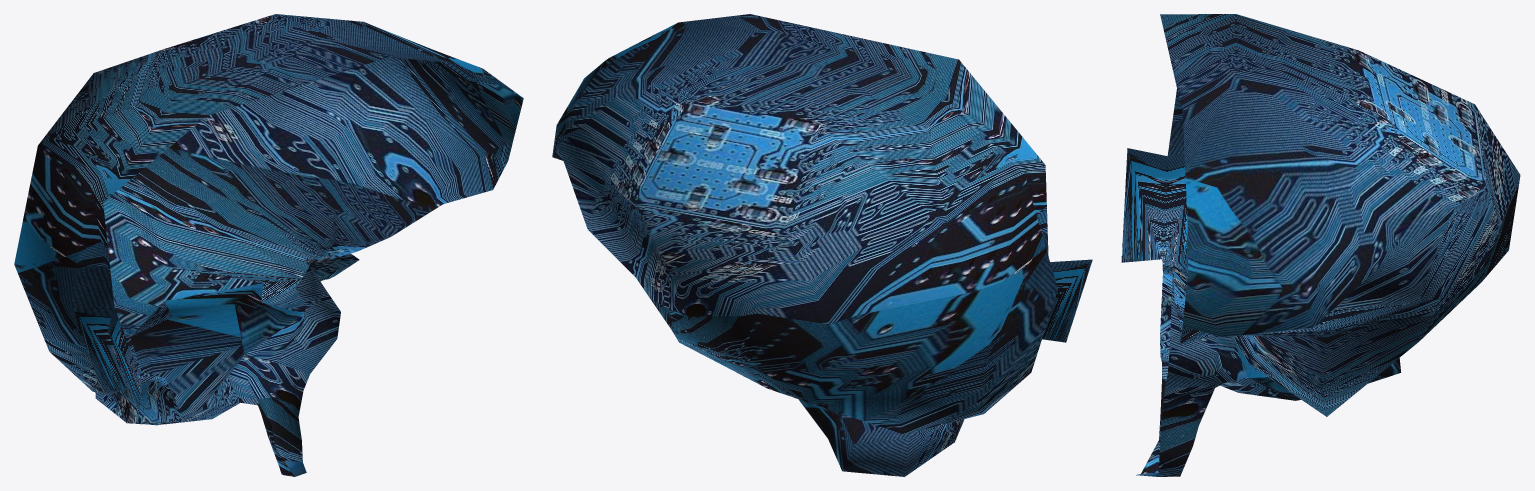
File: TechBrain.fbx
The picture shows the model from 3 angles, left to right: view 1: azimuth 30°, elevation 25°; view 2: azimuth 150°, elevation 25°; view 3: azimuth 270°, elevation 25°; orthographic projection. The views are drawn at different scales.
Visible parts, largest first — view 1: brain3; view 2: brain3; view 3: brain3.
Boxes of the visible parts, x1,y1,x2,y2 form: brain3: [14, 14, 523, 476]; brain3: [552, 14, 1092, 476]; brain3: [1121, 14, 1520, 476].
Bounding box in the file's own units: 6.23 × 5.21 × 4.31.
1 material, 1 textured.
